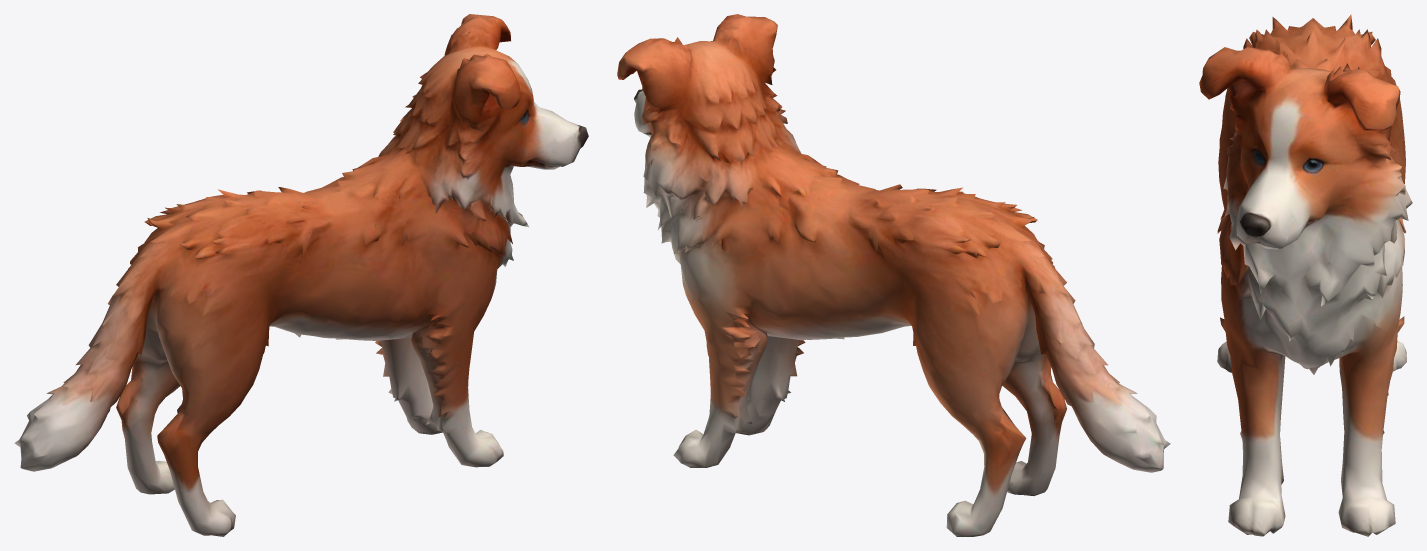
The model's file is border-collie.glb.
The picture shows the model from 3 angles, left to right: view 1: azimuth 30°, elevation 25°; view 2: azimuth 150°, elevation 25°; view 3: azimuth 270°, elevation 25°; orthographic projection. The views are drawn at different scales.
Visible parts, largest first — view 1: tripo_node_9269c913-29ec-4cd6-9f47-d58544a4592d; view 2: tripo_node_9269c913-29ec-4cd6-9f47-d58544a4592d; view 3: tripo_node_9269c913-29ec-4cd6-9f47-d58544a4592d.
Part boxes in pixels (x1,y1,x2,y2): tripo_node_9269c913-29ec-4cd6-9f47-d58544a4592d: (14, 14, 588, 536); tripo_node_9269c913-29ec-4cd6-9f47-d58544a4592d: (617, 14, 1170, 536); tripo_node_9269c913-29ec-4cd6-9f47-d58544a4592d: (1199, 14, 1412, 536).
Size of the model in its own units: 1 by 0.7106 by 0.2842.
Materials: 1 (1 with a texture image).
